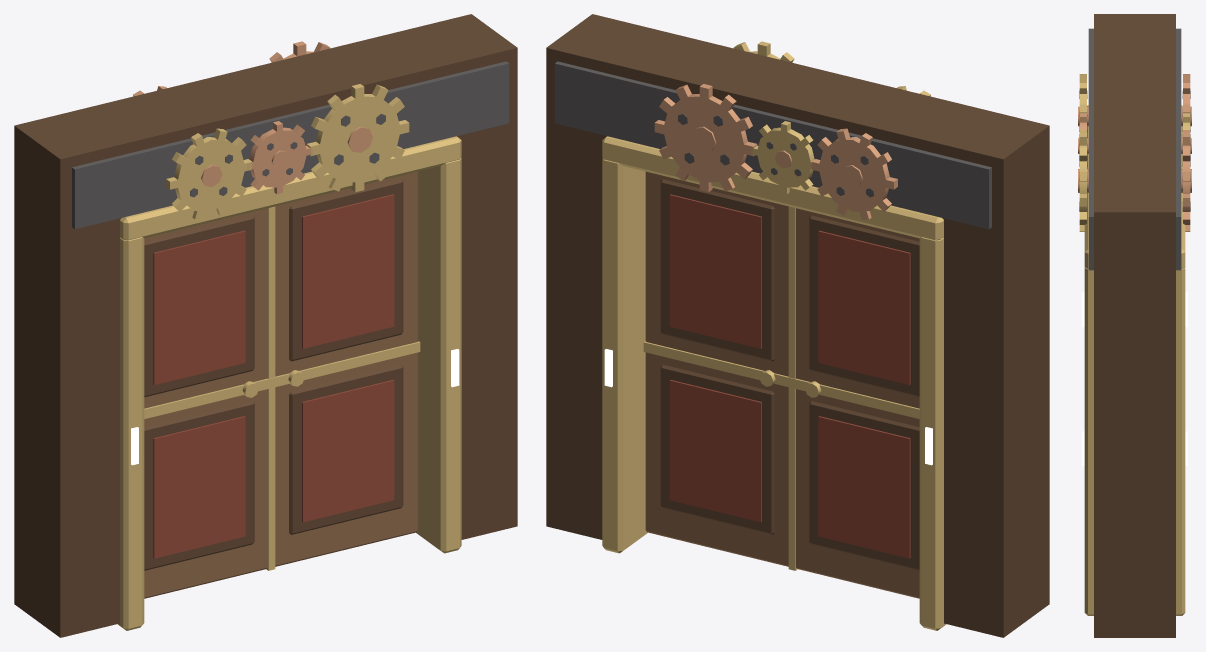
Rendered from door_hm_gear.glb.
3 renders of one model, left to right at view 1: azimuth 30°, elevation 25°; view 2: azimuth 150°, elevation 25°; view 3: azimuth 270°, elevation 25°, orthographic. The views are drawn at different scales.
Parts seen in each view (by area): view 1: frame, leaf_r, leaf_l, gear2, gear0, gear1; view 2: frame, leaf_r, leaf_l, gear5, gear3, gear4; view 3: frame, gear2, gear5, gear0, gear3, gear1, gear4.
Boxes of the visible parts, x1,y1,x2,y2 form: frame: [14, 14, 517, 637]; leaf_r: [271, 171, 420, 569]; leaf_l: [144, 207, 272, 598]; gear2: [306, 84, 409, 192]; gear0: [166, 128, 252, 219]; gear1: [247, 121, 312, 193]; frame: [546, 14, 1049, 637]; leaf_r: [643, 171, 792, 569]; leaf_l: [791, 207, 919, 598]; gear5: [654, 84, 757, 192]; gear3: [811, 128, 897, 219]; gear4: [751, 121, 814, 193]; frame: [1082, 14, 1187, 637]; gear2: [1078, 130, 1088, 231]; gear5: [1181, 130, 1191, 231]; gear0: [1078, 74, 1088, 137]; gear3: [1181, 74, 1191, 137]; gear1: [1078, 113, 1088, 166]; gear4: [1181, 113, 1191, 166].
Bounding box in the file's own units: 4 × 4.1 × 0.97.
